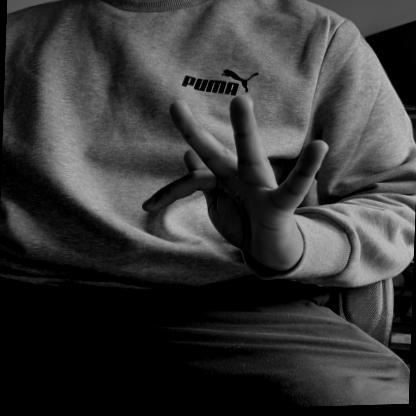F: (140, 85, 334, 276)
